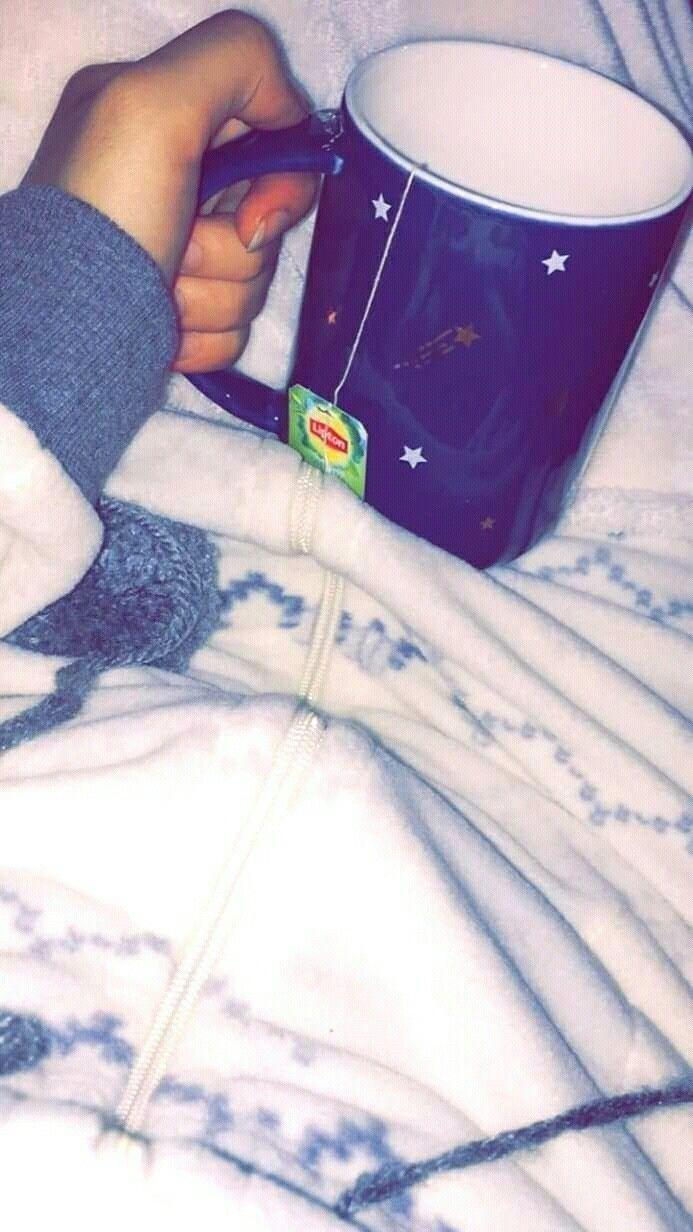cup-handle: (174, 35, 691, 574)
